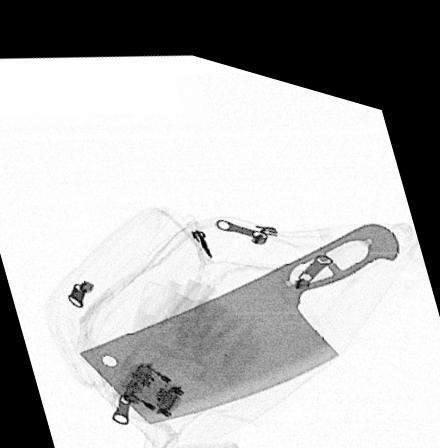Knife: (76, 200, 401, 417)
